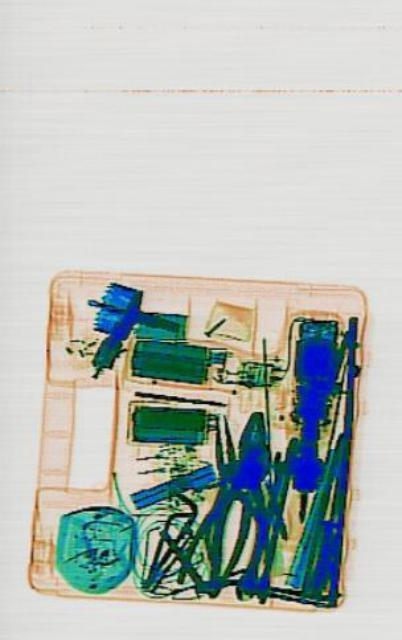Pliers: (187, 406, 269, 586), (207, 402, 281, 588)
